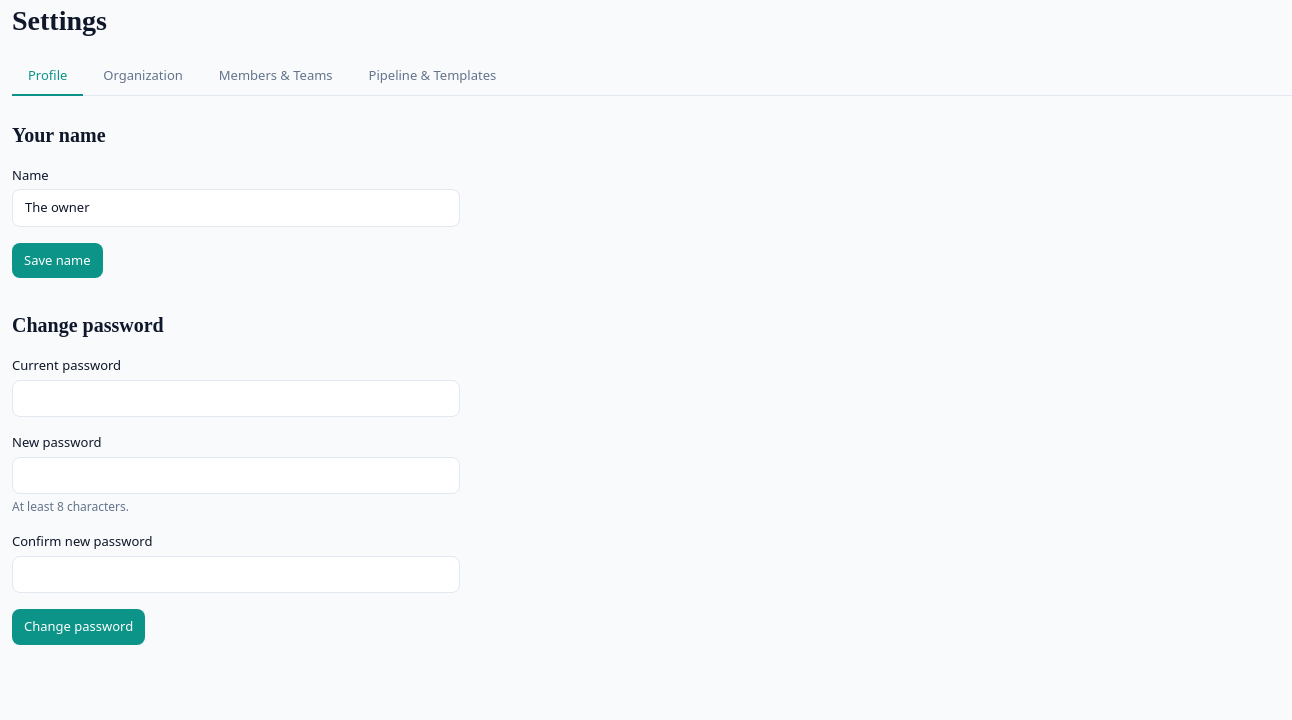
Settings: Members & Teams tab (members:manage) › owner sees invite and team controls: true
The image size is (1292, 720).
Click the button "Members & Teams": point(276, 77) [203,58,349,96]
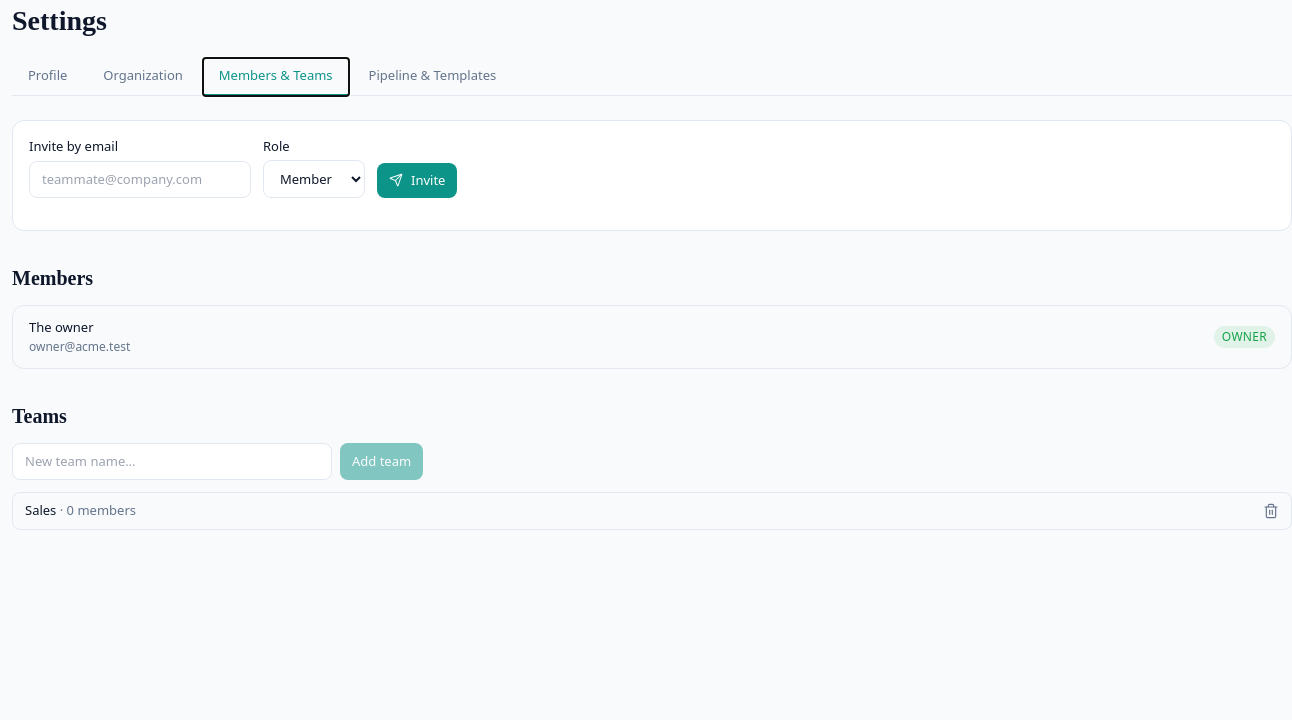
Now the text "Sales" is shown, box [25,501,56,519]
